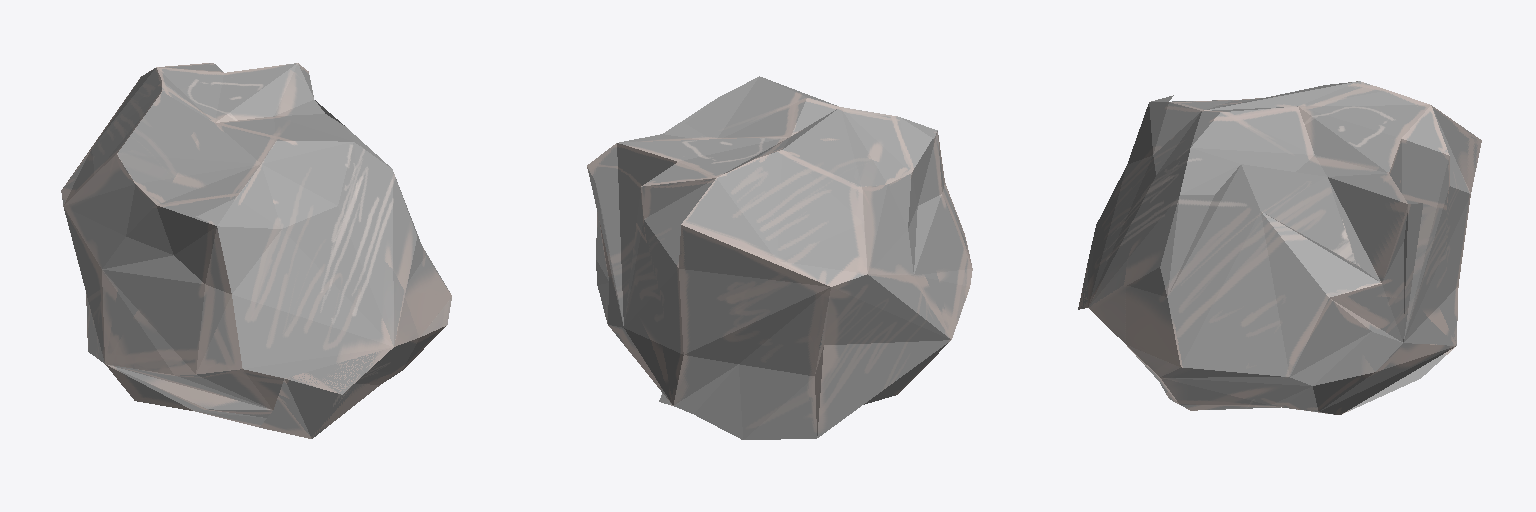
The picture shows the model from 3 angles: view 1: azimuth 30°, elevation 25°; view 2: azimuth 150°, elevation 25°; view 3: azimuth 270°, elevation 25°; orthographic projection.
Visible parts, largest first — view 1: rock1_Cube.003; view 2: rock1_Cube.003; view 3: rock1_Cube.003.
Part boxes in pixels (x1,y1,x2,y2): rock1_Cube.003: (61,63,451,438); rock1_Cube.003: (587,76,972,439); rock1_Cube.003: (1078,81,1481,414).
Bounding box in the file's own units: 2.14 × 1.81 × 2.24.
Materials: 1 (1 with a texture image).